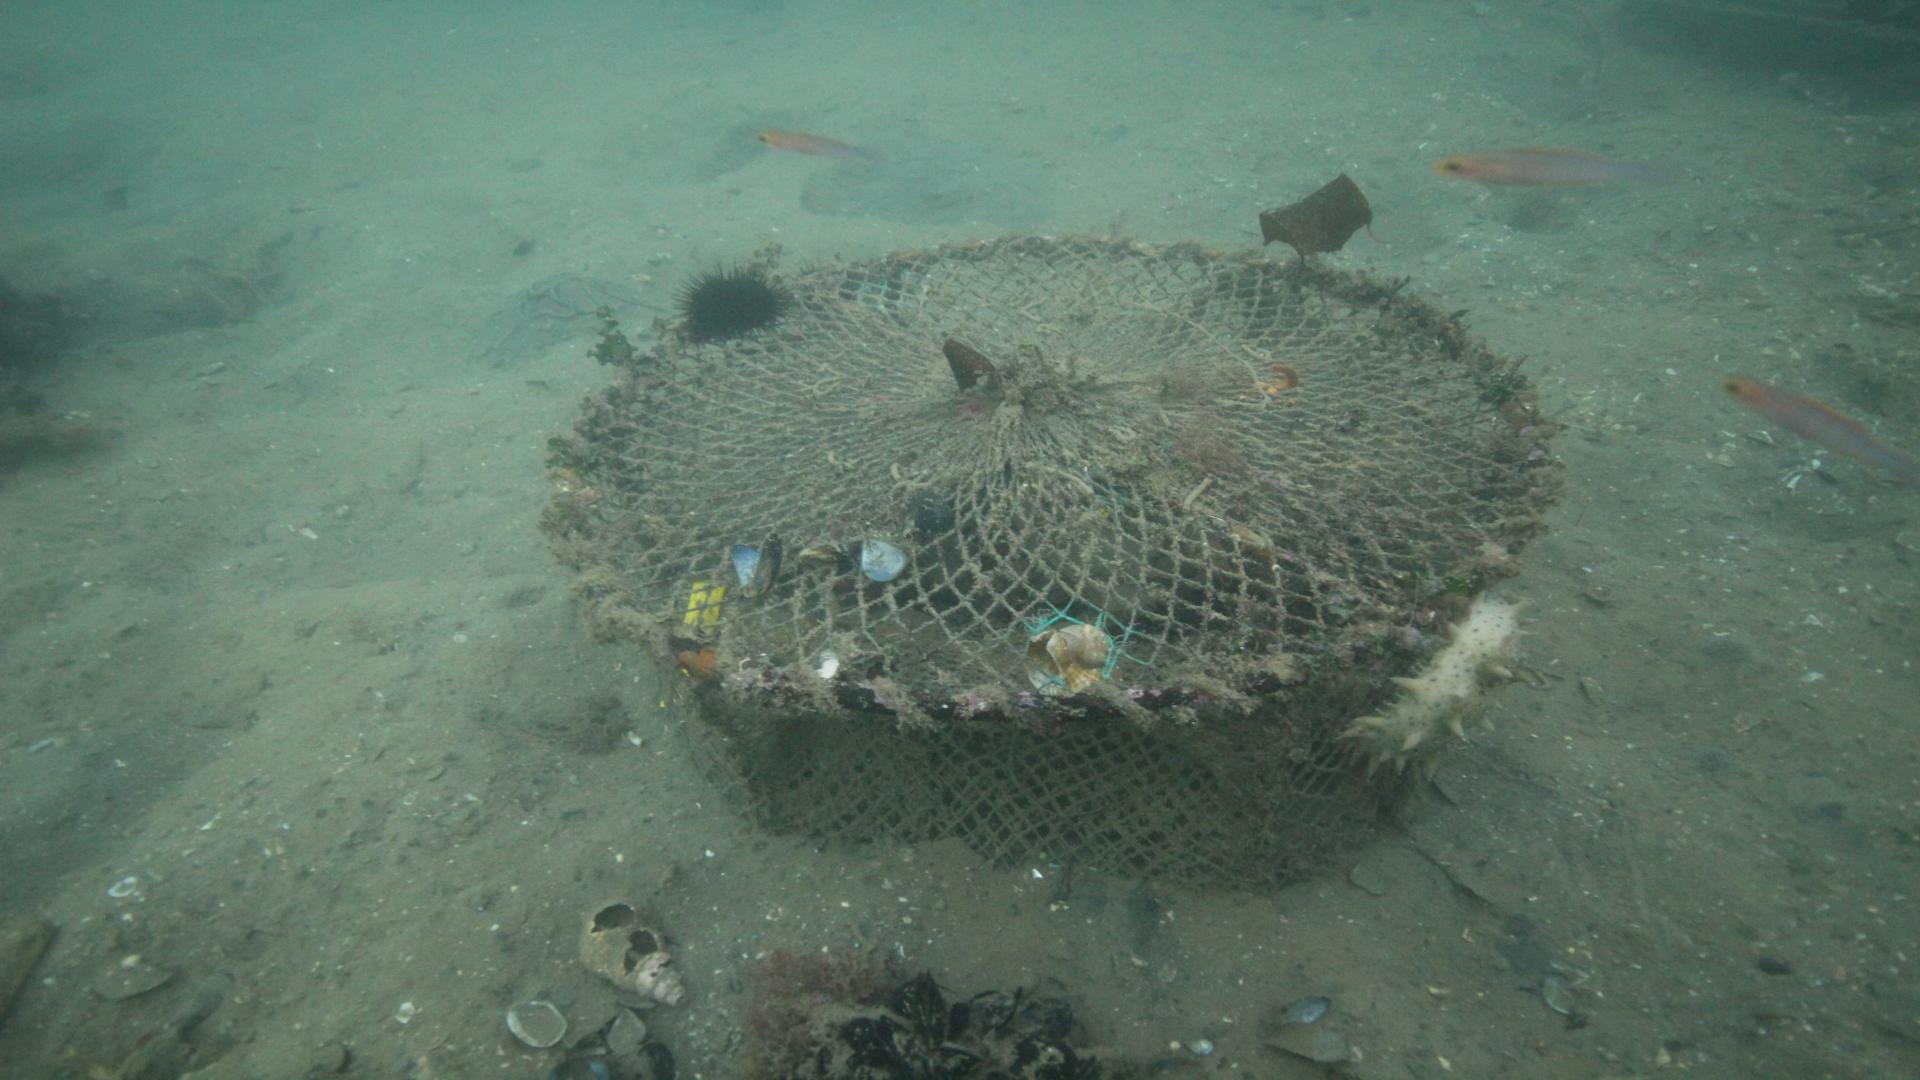circular fish trap: (551, 229, 1559, 891)
